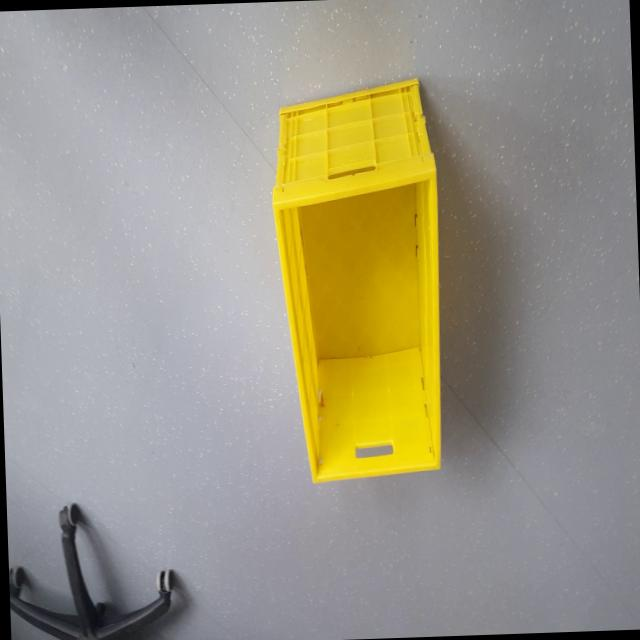box: (261, 70, 458, 496)
